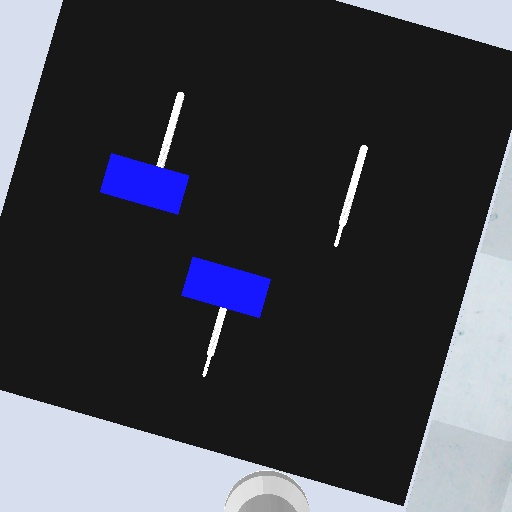bisturi: (329, 142, 371, 250), (154, 88, 187, 171), (200, 303, 229, 380)
